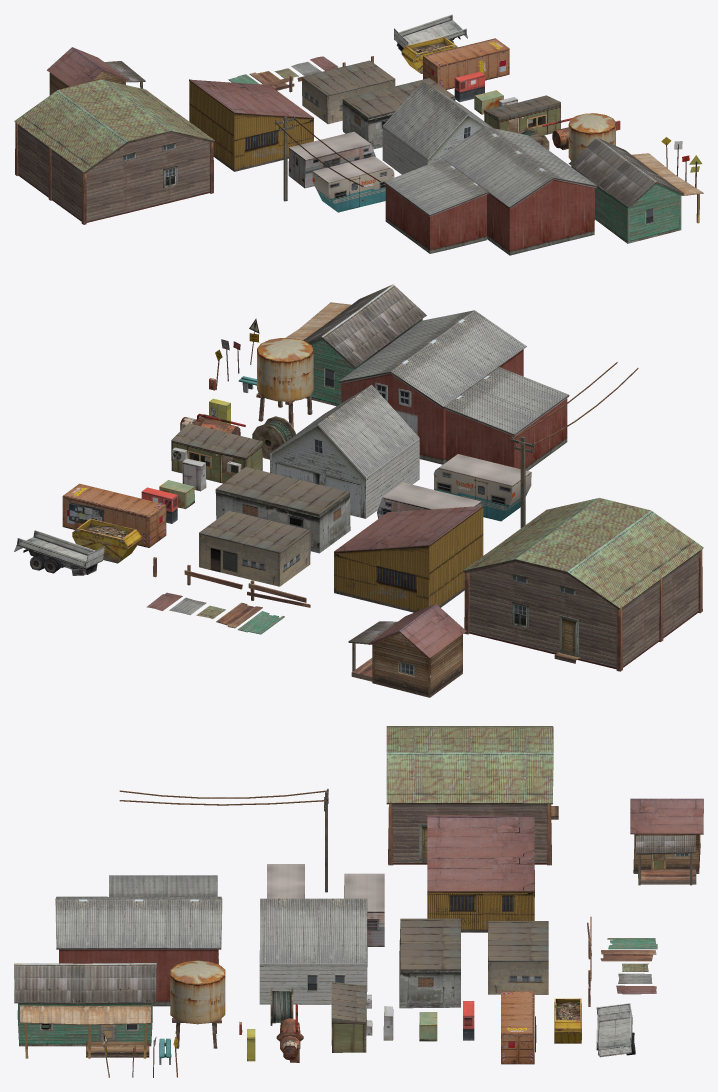
Rendered from lowpoly_buildings.glb.
The picture shows the model from 3 angles, top to bottom: view 1: azimuth 30°, elevation 25°; view 2: azimuth 150°, elevation 25°; view 3: azimuth 270°, elevation 25°; orthographic projection. The views are drawn at different scales.
Parts seen in each view (by area): view 1: house02_elements_0, barn01_elements_0, barrack04_elements_0, barn01_add_elements_0, house01_elements_0, barn03_elements_0, barrack03_elements_0, trailer01_elements_0, container02_elements_0, barrack02_elements_0, trailer02_elements_0, barrack01_elements_0 (+10 smaller); view 2: house02_elements_0, barn01_elements_0, barrack04_elements_0, barn03_elements_0, barn01_add_elements_0, house01_elements_0, barrack02_elements_0, house03_elements_0, barrack03_elements_0, trailer01_elements_0, watertank01_elements_0, container02_elements_0 (+11 smaller); view 3: house02_elements_0, barn01_elements_0, barrack04_elements_0, barn03_elements_0, house01_elements_0, barrack02_elements_0, barrack03_elements_0, house03_elements_0, watertank01_elements_0, house01_roof_elements_0, container02_elements_0, barrack01_elements_0 (+14 smaller).
Part boxes in pixels (x1,y1,x2,y2): house02_elements_0: (14,79,214,224); barn01_elements_0: (440,126,597,255); barrack04_elements_0: (189,79,313,171); barn01_add_elements_0: (384,159,488,253); house01_elements_0: (568,137,684,243); barn03_elements_0: (382,81,492,174); barrack03_elements_0: (302,60,395,124); trailer01_elements_0: (312,156,394,212); container02_elements_0: (423,38,509,89); barrack02_elements_0: (342,78,455,149); trailer02_elements_0: (288,131,375,188); barrack01_elements_0: (484,95,560,135); house02_elements_0: (463,498,703,671); barn01_elements_0: (338,310,526,464); barrack04_elements_0: (334,505,483,612); barn03_elements_0: (270,384,419,518); barn01_add_elements_0: (444,367,569,470); house01_elements_0: (303,284,426,406); barrack02_elements_0: (215,467,350,553); house03_elements_0: (368,604,466,697); barrack03_elements_0: (199,510,310,586); trailer01_elements_0: (433,454,531,521); watertank01_elements_0: (256,338,314,427); container02_elements_0: (62,483,166,547); house02_elements_0: (386,726,558,865); barn01_elements_0: (55,896,222,1006); barrack04_elements_0: (426,815,534,932); barn03_elements_0: (259,898,367,1004); house01_elements_0: (14,963,156,1046); barrack02_elements_0: (399,918,460,1008); barrack03_elements_0: (488,921,548,994); house03_elements_0: (630,798,703,873); watertank01_elements_0: (170,960,225,1048); house01_roof_elements_0: (20,1005,150,1058); container02_elements_0: (501,991,534,1064); barrack01_elements_0: (331,982,366,1052).
Bounding box in the file's own units: 42.01 × 6.88 × 42.07.
1 material, 1 textured.
